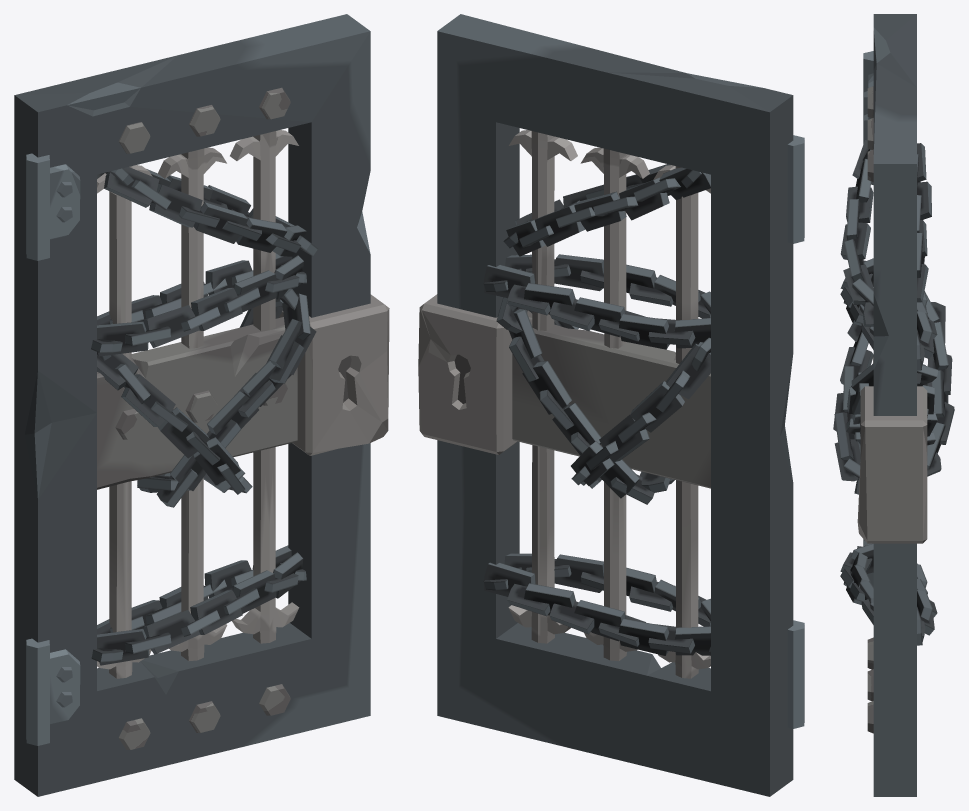
The model's file is crypt_crypt_door_chained.gltf.
3 views of the same model, side by side, from view 1: azimuth 30°, elevation 25°; view 2: azimuth 150°, elevation 25°; view 3: azimuth 270°, elevation 25° (orthographic). The views are drawn at different scales.
Visible parts, largest first — view 1: crypt_crypt_door_chained; view 2: crypt_crypt_door_chained; view 3: crypt_crypt_door_chained.
Part boxes in pixels (<box>): crypt_crypt_door_chained: <box>14,14,389,796</box>; crypt_crypt_door_chained: <box>418,14,804,796</box>; crypt_crypt_door_chained: <box>833,14,954,796</box>.
Bounding box in the file's own units: 1.08 × 1.97 × 0.3424.
1 material, 1 textured.
